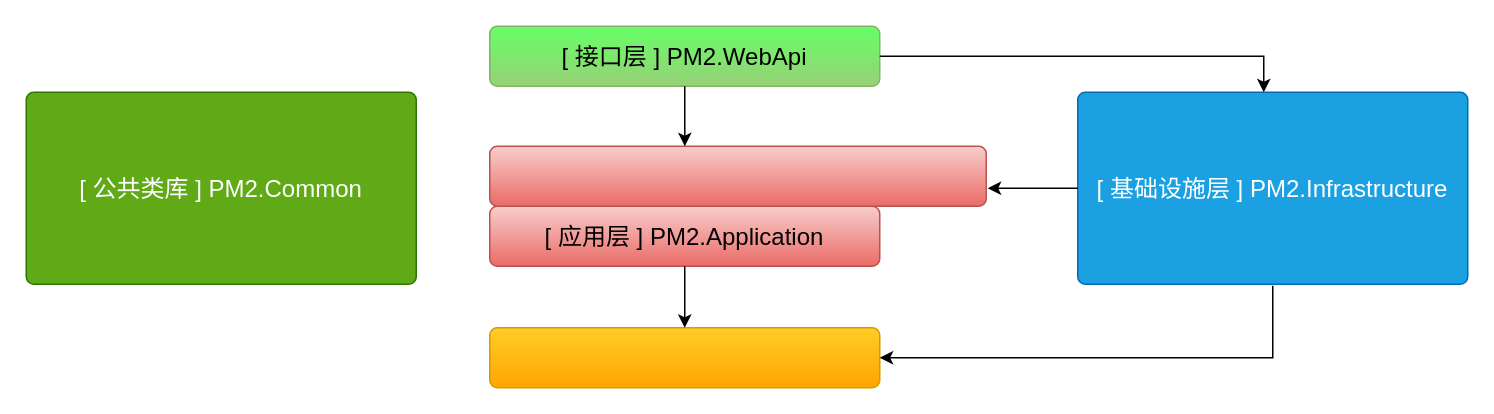
Some shapes in this 1494 by 414 pixel diagram are drawn without their labels. Here are the shapes that lost their labels. From the top down, the box of each, then its label:
(488, 145, 986, 206): [ 应用层 ] PM2.ApplicationAbstractions
(488, 326, 880, 388): [ 领域层 ] PM2.Domain
